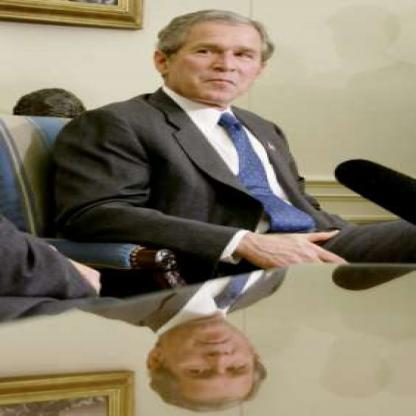face: (170, 13, 266, 103)
